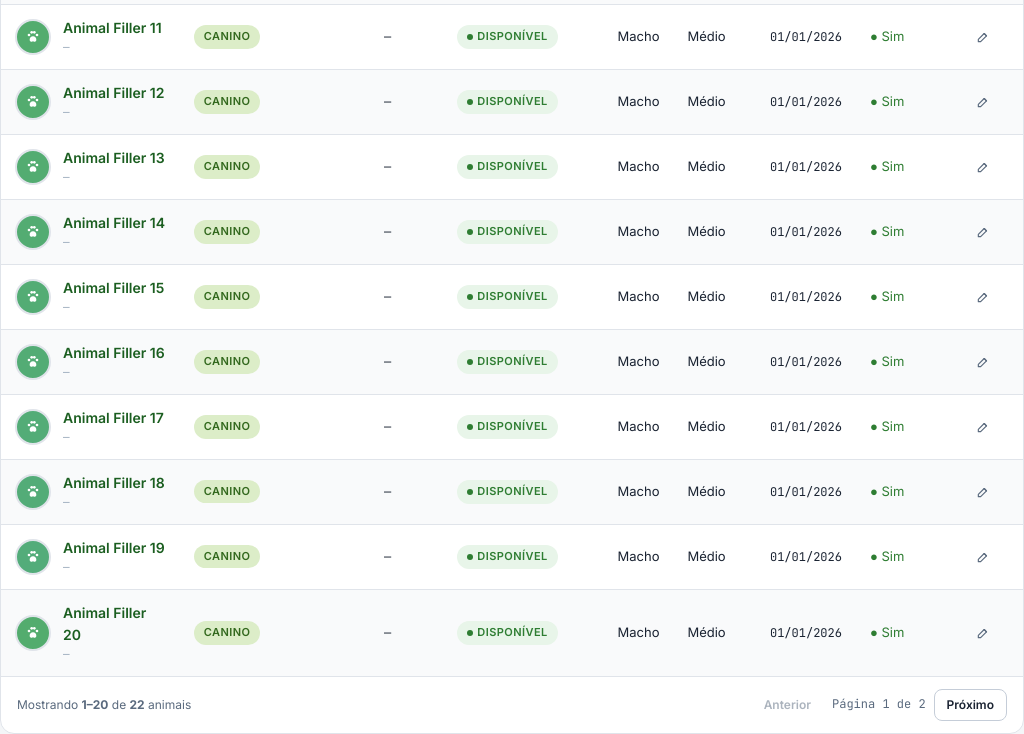
Test: Animais › pagina os resultados no servidor ao clicar em Próximo
The image size is (1024, 734).
(page scrolled)
Expected: the text "Animal Filler 21" is not shown
What coordinates should you click on to do the following:
click the button "Próximo"
I would click on:
 (970, 705)
Its box is top-left (934, 689), bottom-right (1007, 721).
(page scrolled)
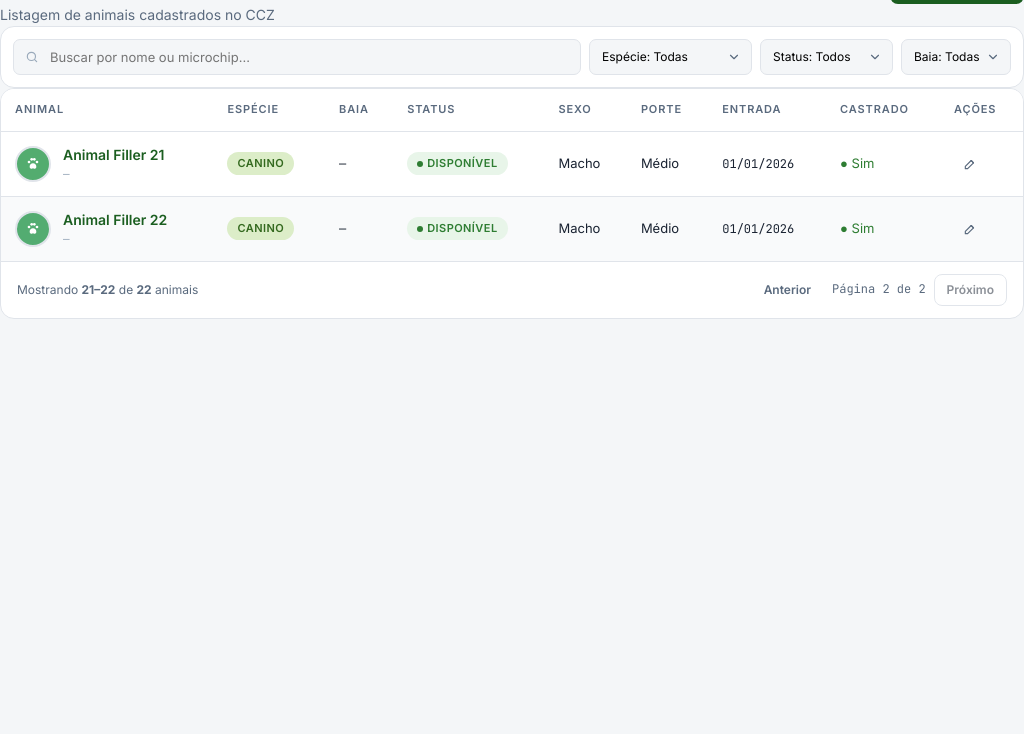
Now the link "Animal Filler 21" is shown, box top-left (63, 146), bottom-right (164, 163)
